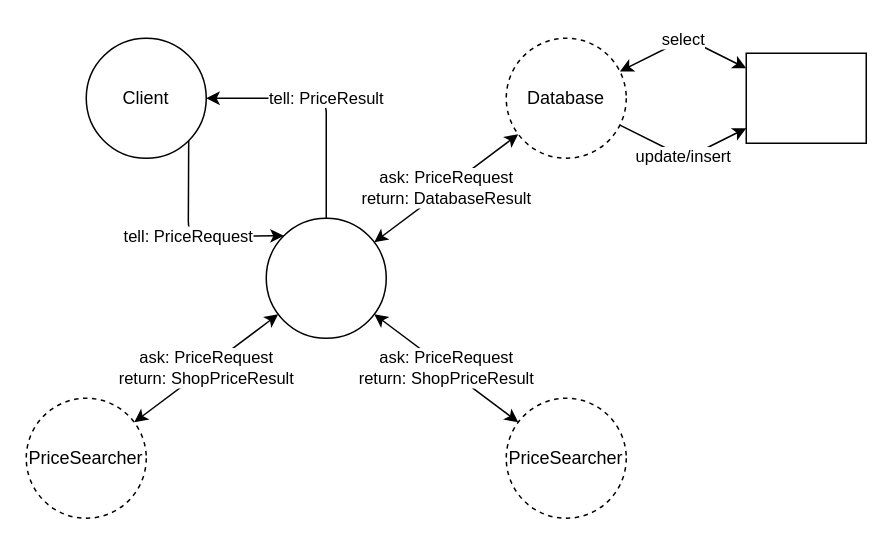
The diagram is 893 pixels wide and 545 high, and some of its shapes have lost their labels. Here are the shapes that lost their labels. From the top down, the box of each, then its label:
(745, 52, 866, 143): SQLite Database
(265, 217, 386, 338): Server
